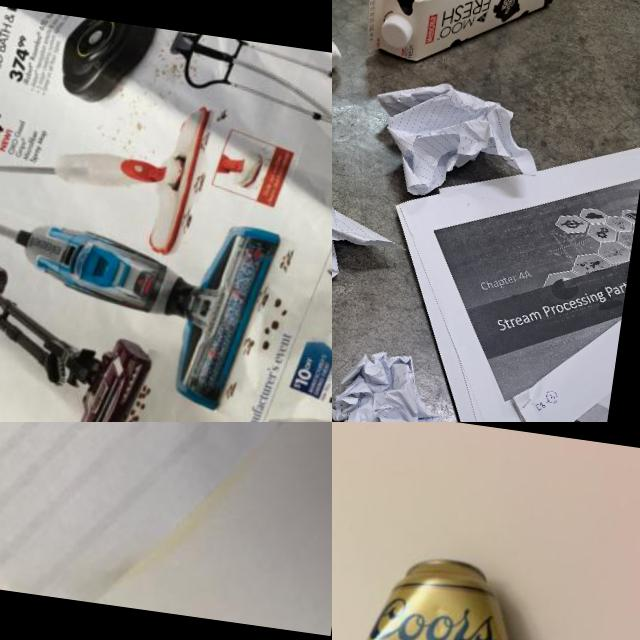caixinha: (363, 0, 573, 80)
lata: (349, 546, 542, 640)
papel: (0, 0, 332, 422), (345, 112, 640, 422), (0, 422, 332, 629), (364, 74, 548, 213), (332, 167, 400, 327), (332, 344, 449, 422)
tampa plástica: (372, 10, 415, 55), (332, 37, 340, 78)
